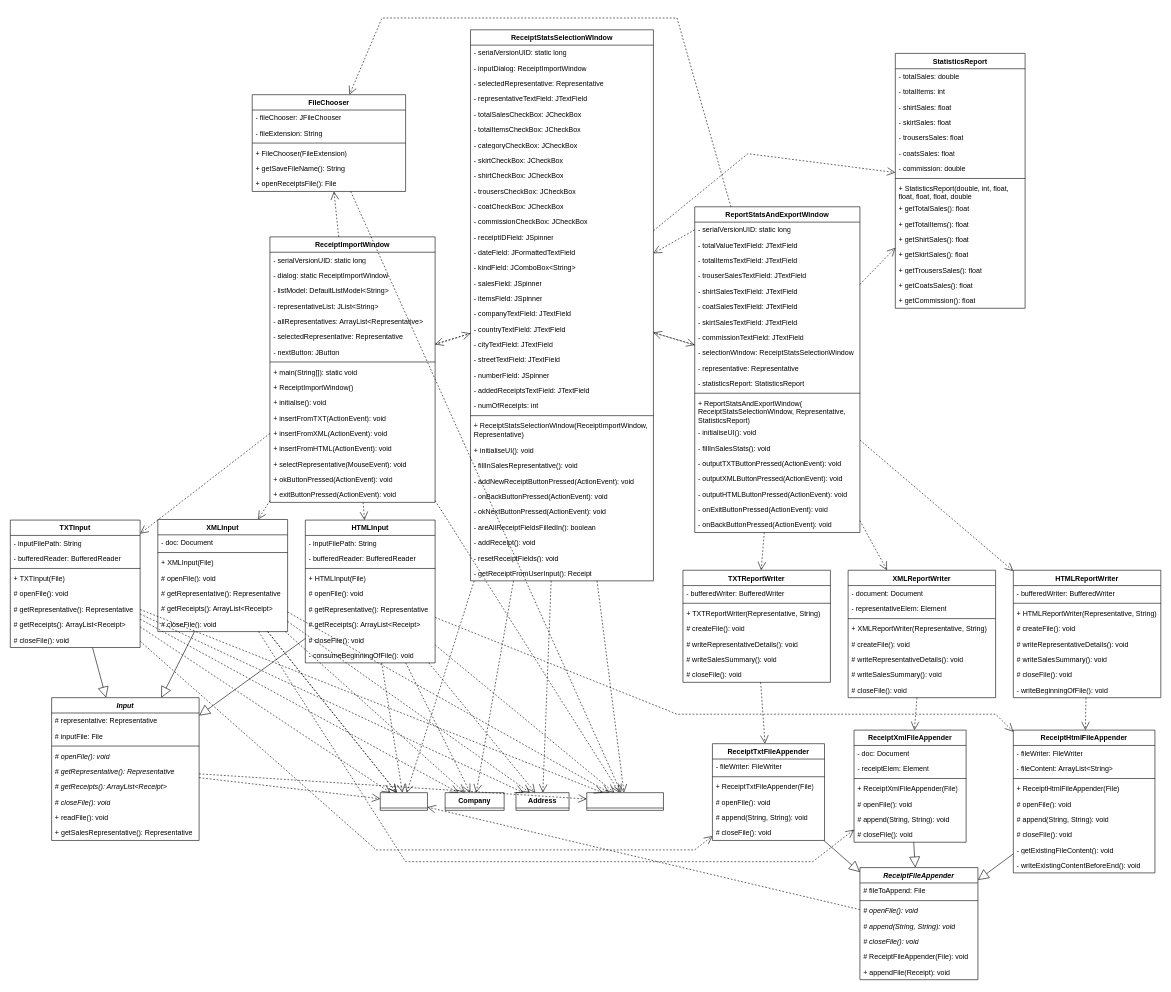
The diagram is 1171 pixels wide and 992 high, and some of its shapes have lost their labels. The box of each missing label's shape, as (x1, y1, x2, y2) in pixels:
Receipt: (380, 792, 427, 810)
Representative: (586, 792, 663, 810)
